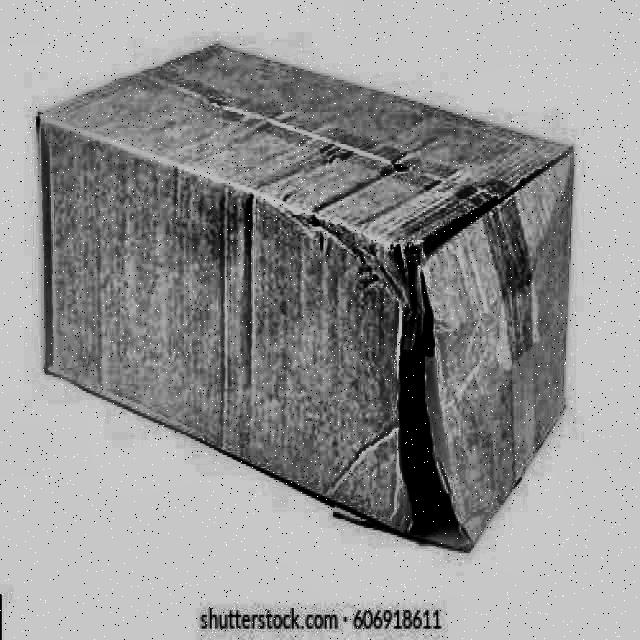box: (29, 35, 581, 561)
hole: (390, 274, 471, 558)
